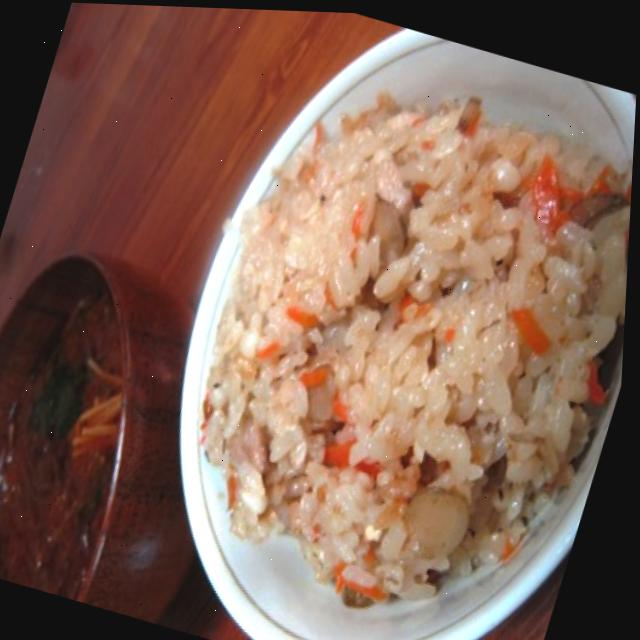汤锅炖物: (142, 6, 510, 397)
米饭主食: (90, 258, 628, 640), (86, 264, 625, 640)
